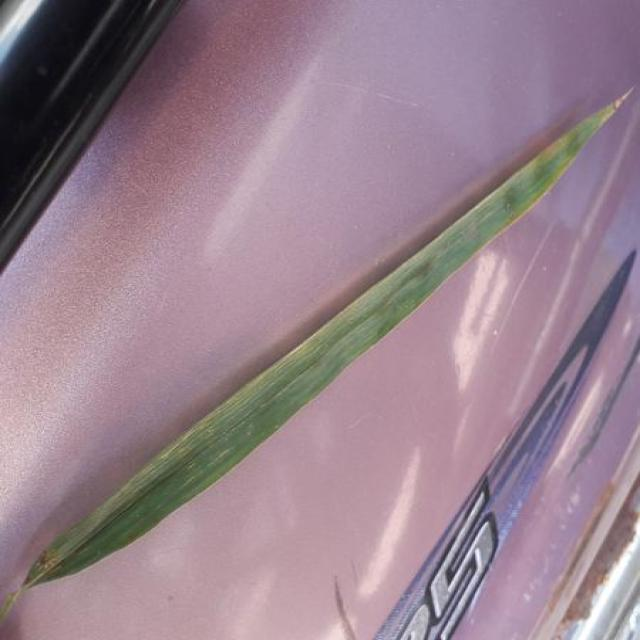Bamboo: (5, 95, 626, 616)
defectedBamboo: (25, 461, 202, 586)
